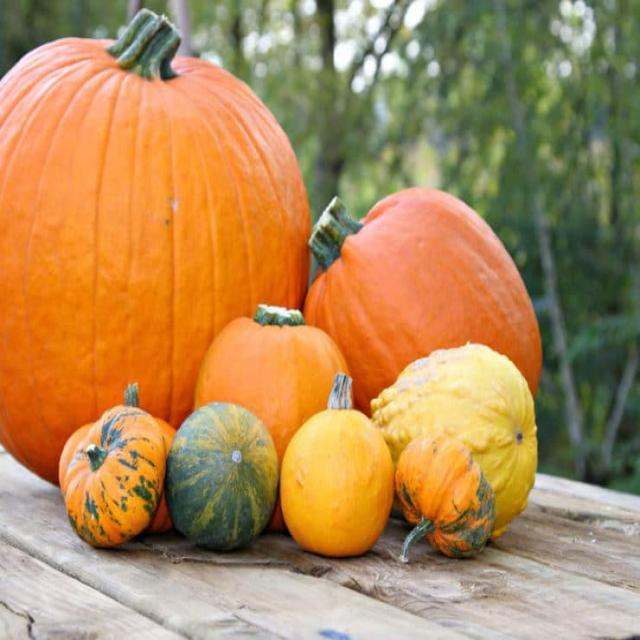pumpkin: (0, 10, 310, 481), (305, 188, 541, 412), (195, 303, 348, 464), (280, 372, 394, 557), (59, 383, 175, 546), (395, 433, 496, 562)
